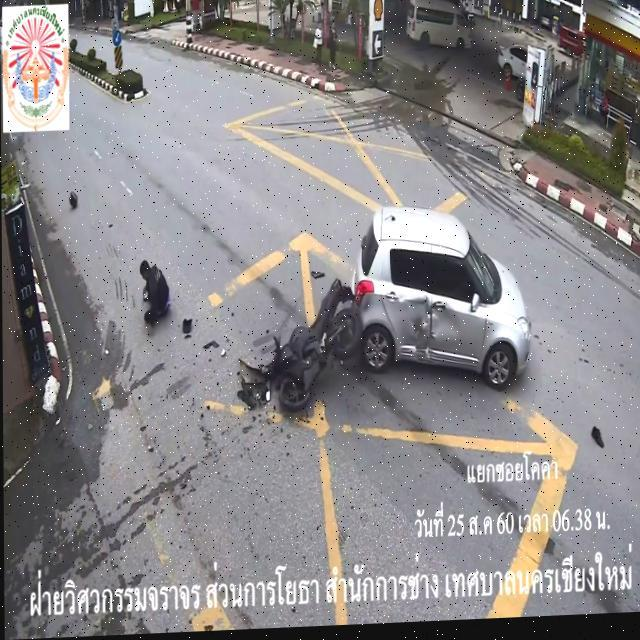multiple_accident: (142, 185, 527, 467)
